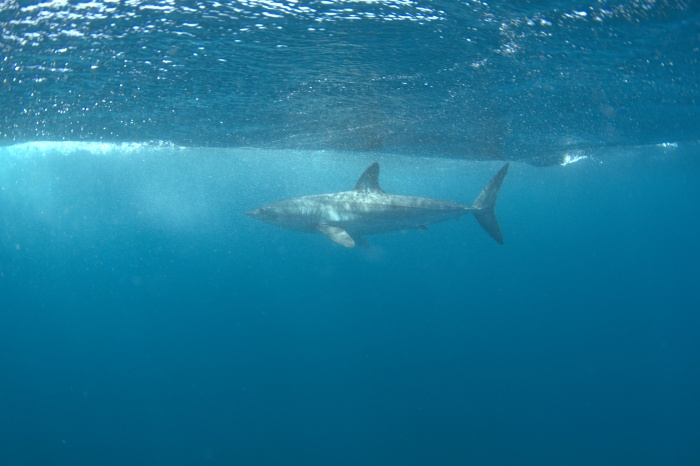Mako: (228, 158, 519, 261)
